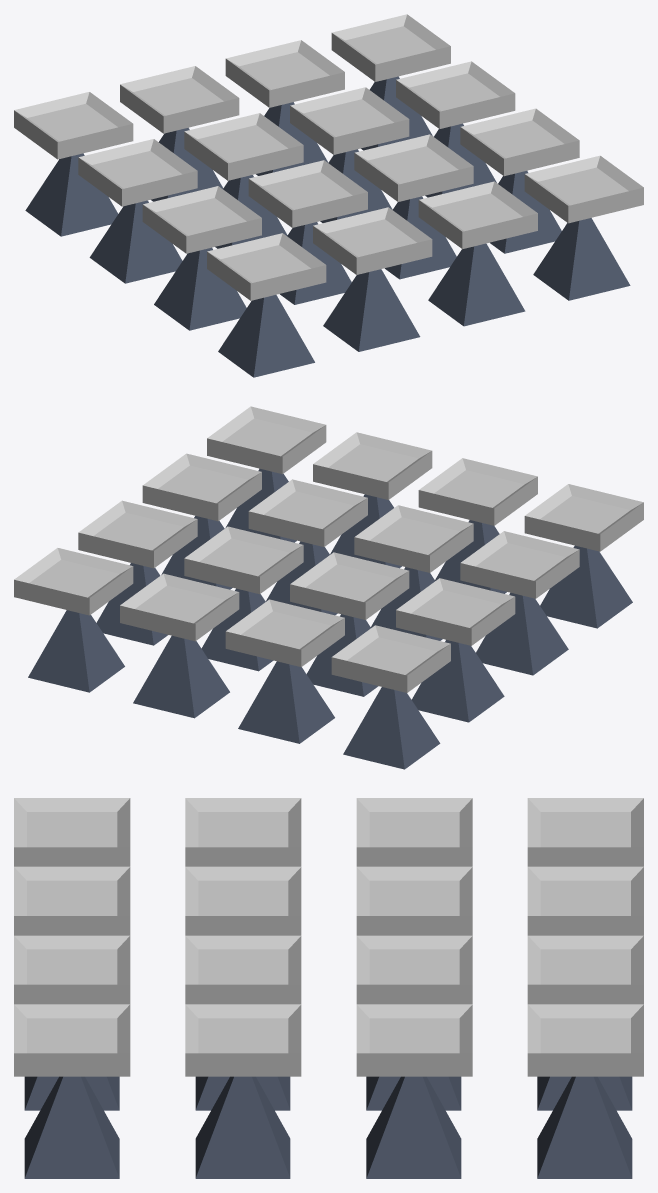
The model's file is SpikeTrap.fbx.
3 renders of one model, top to bottom at view 1: azimuth 30°, elevation 25°; view 2: azimuth 150°, elevation 25°; view 3: azimuth 270°, elevation 25°, orthographic. The views are drawn at different scales.
Visible parts, largest first — view 1: Holes, Spikes; view 2: Holes, Spikes; view 3: Holes, Spikes.
Part boxes in pixels (x1=…): Holes: x1=14, y1=14, x2=643, y2=300; Spikes: x1=25, y1=76, x2=630, y2=377; Holes: x1=14, y1=406, x2=643, y2=692; Spikes: x1=28, y1=468, x2=632, y2=769; Holes: x1=14, y1=798, x2=643, y2=1076; Spikes: x1=24, y1=1076, x2=632, y2=1178.
Size of the model in its own units: 115 by 27.53 by 119.
